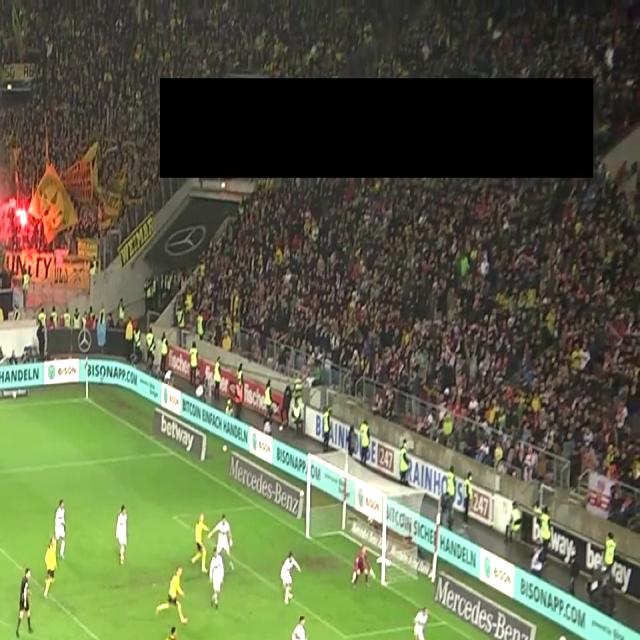goalkeeper: (348, 541, 376, 593)
referee: (7, 566, 41, 640)
soccer-player: (152, 560, 190, 623), (46, 494, 76, 572), (110, 502, 139, 572), (205, 550, 235, 614), (188, 511, 216, 576), (274, 546, 303, 608), (40, 532, 67, 597), (401, 602, 435, 640), (282, 612, 316, 640), (155, 629, 186, 640)
